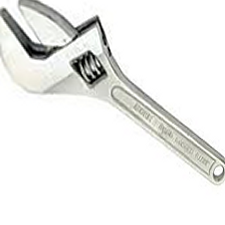Wrench: (1, 2, 225, 185)
